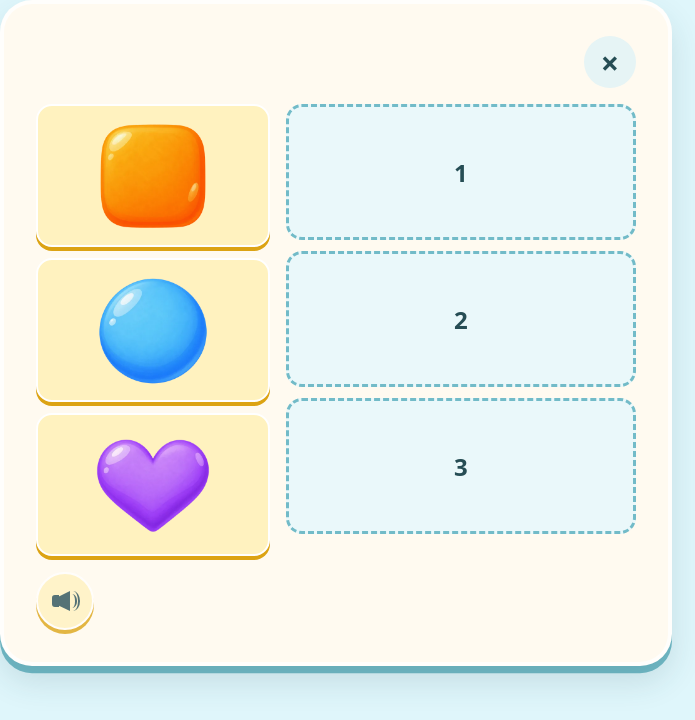
Test: AssemblyActivityScreen › mantém peças à esquerda e devolve todas após ordem errada
Click the button named "quadrado laranja": click(153, 176) x1=36 y1=104 x2=270 y2=247
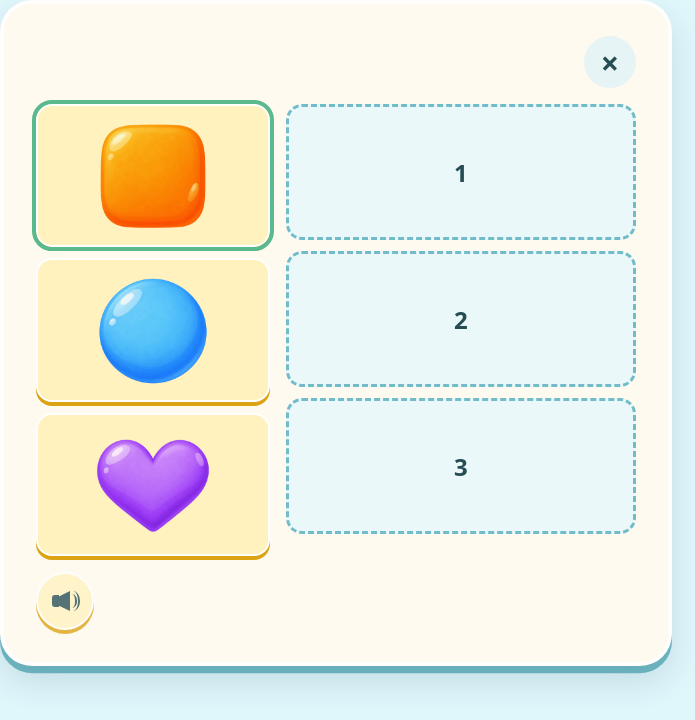
Click the button "1": click(461, 172) x1=286 y1=104 x2=636 y2=240
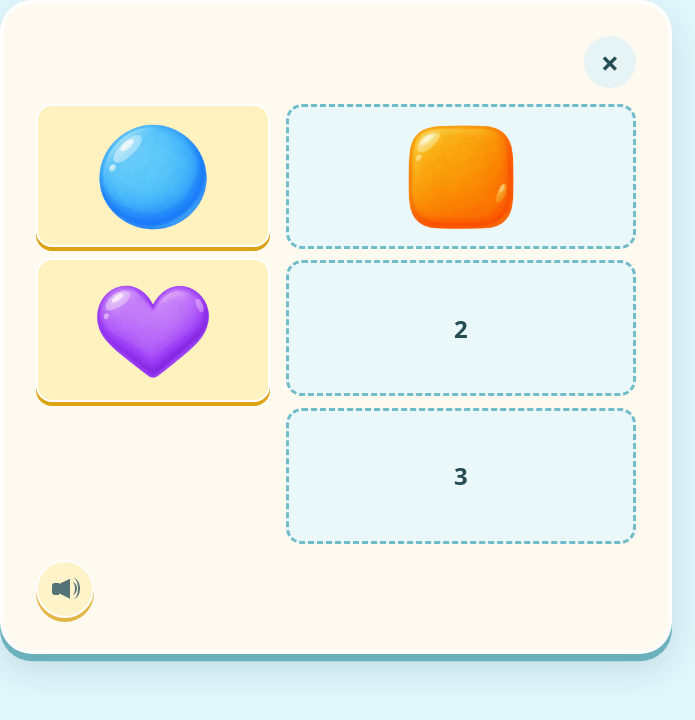
Click the button named "círculo azul": click(153, 176) x1=36 y1=104 x2=270 y2=247
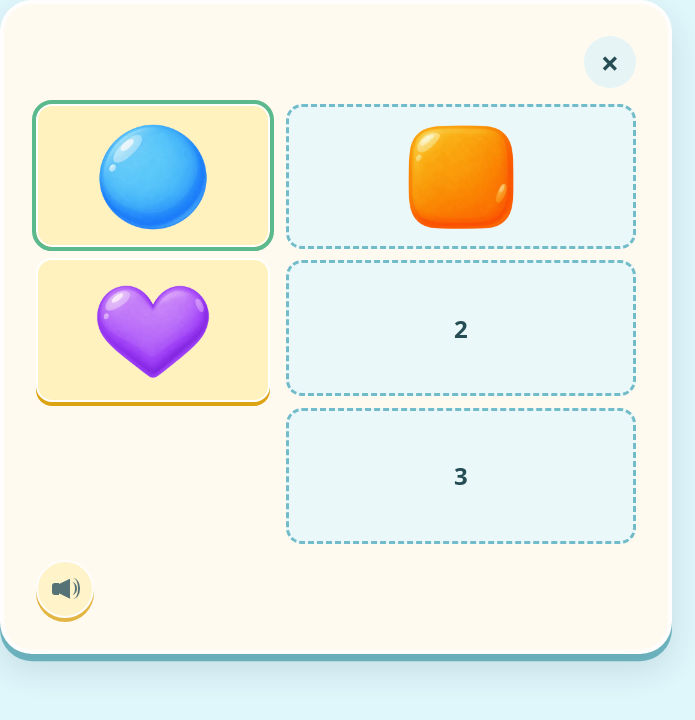
Click the button "2": click(461, 328) x1=286 y1=260 x2=636 y2=396
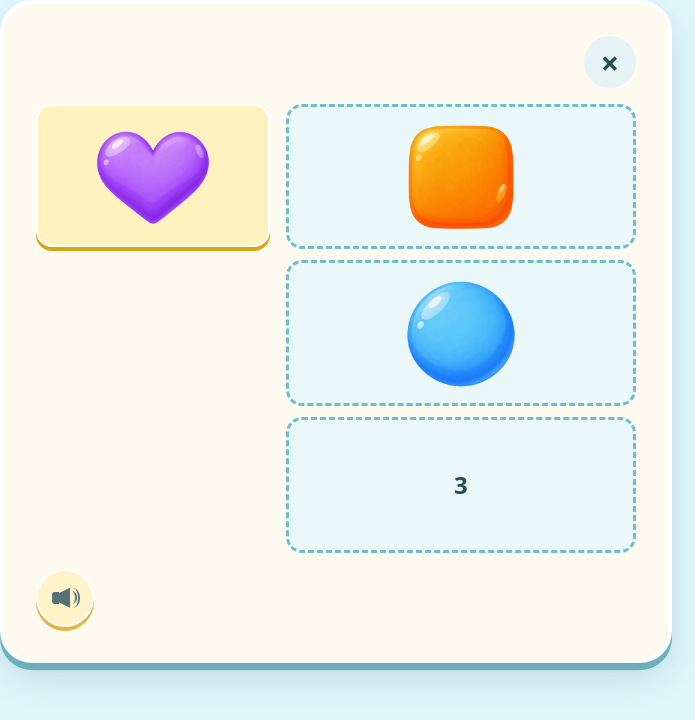
Click the button named "coração roxo": click(153, 176) x1=36 y1=104 x2=270 y2=247
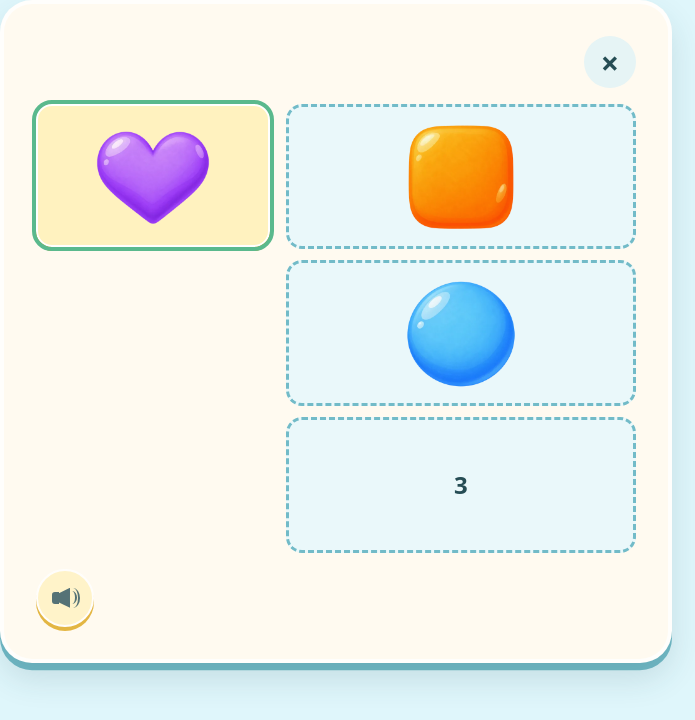
Click the button "3": click(461, 485) x1=286 y1=417 x2=636 y2=553
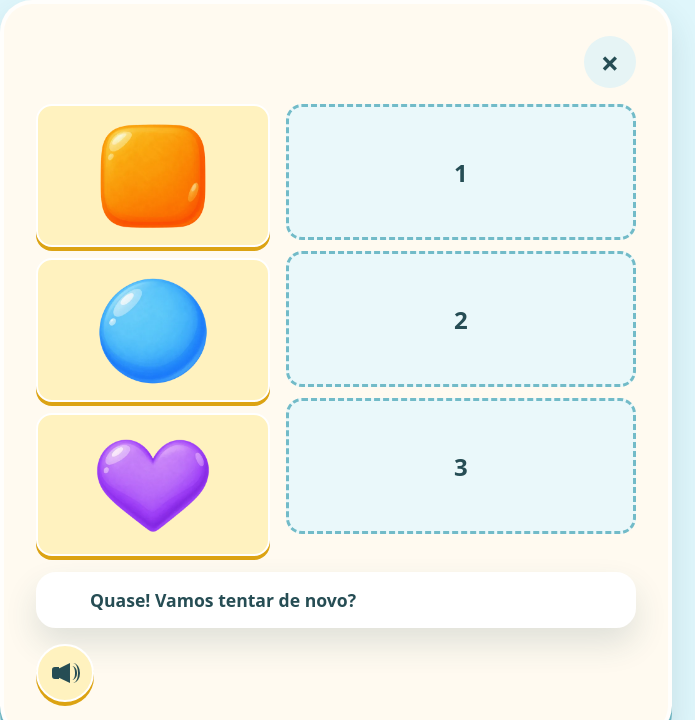
Check: the text "↻ Quase! Vamos tentar de novo?" is shown, box x1=36 y1=572 x2=636 y2=628
